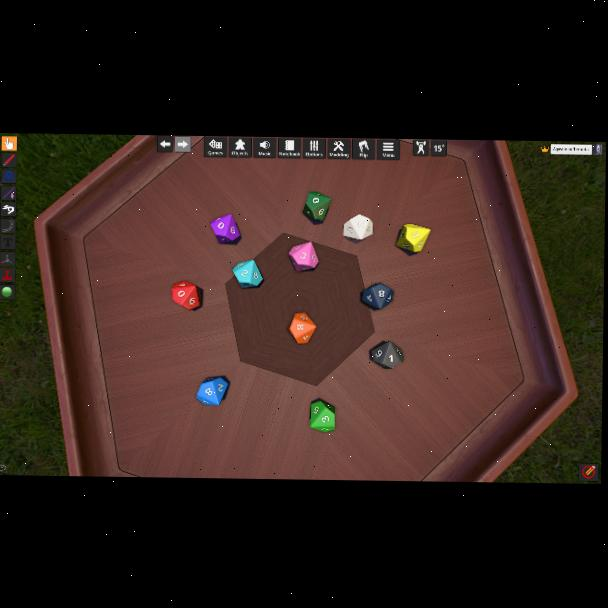d10: (196, 375, 228, 405), (395, 223, 426, 253), (288, 242, 317, 273), (371, 341, 403, 369), (309, 398, 335, 432), (173, 281, 202, 311), (232, 259, 262, 288), (288, 313, 316, 344), (210, 214, 239, 243), (302, 192, 330, 222), (360, 283, 391, 310), (343, 214, 371, 241)
